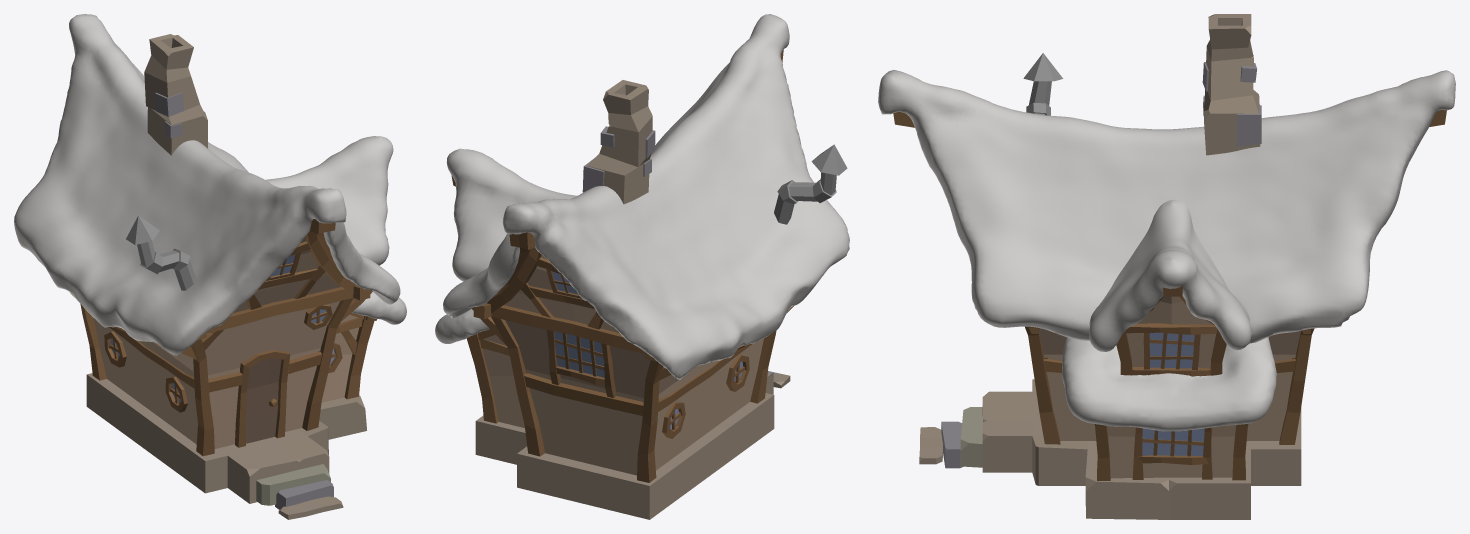
File: House_No_Porch_Snow.fbx
3 views of the same model, side by side, from view 1: azimuth 30°, elevation 25°; view 2: azimuth 150°, elevation 25°; view 3: azimuth 270°, elevation 25° (orthographic). The views are drawn at different scales.
Parts seen in each view (by area): view 1: House_No_Porch_Snow; view 2: House_No_Porch_Snow; view 3: House_No_Porch_Snow.
Boxes of the visible parts, left/top/right/bottom form: House_No_Porch_Snow: left=14, top=14, right=406, bottom=519; House_No_Porch_Snow: left=435, top=14, right=849, bottom=519; House_No_Porch_Snow: left=878, top=14, right=1455, bottom=519.
Size of the model in its own units: 795 by 897 by 1101.
